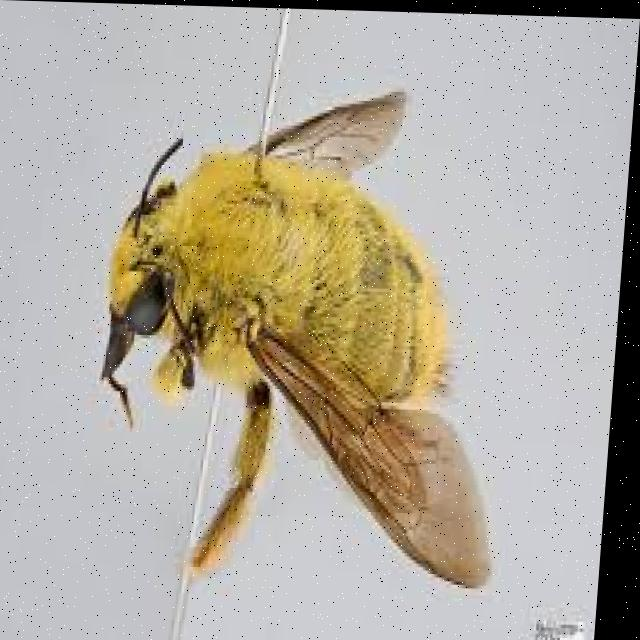Xylocopa: (78, 59, 539, 601)
